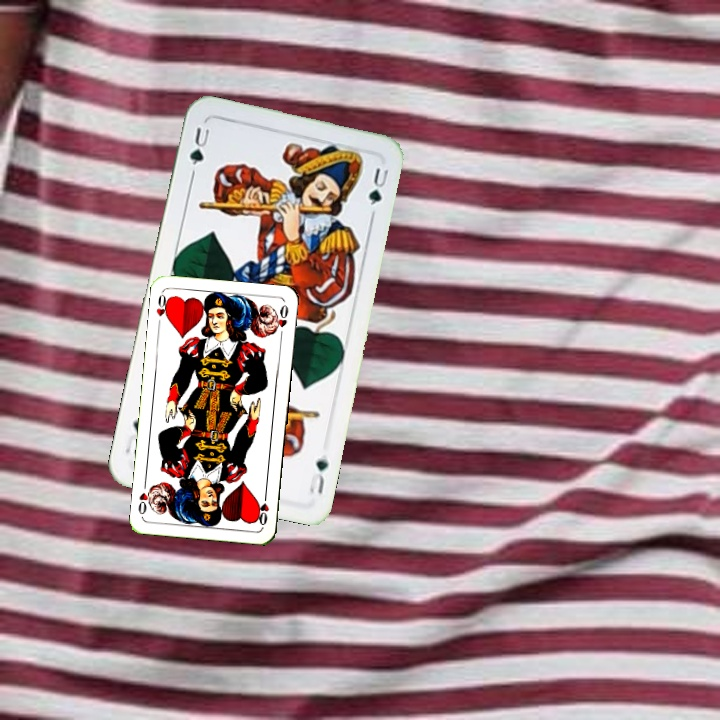GU: (185, 123, 212, 168), (305, 454, 331, 497)
HO: (152, 289, 173, 330), (254, 488, 271, 528)
